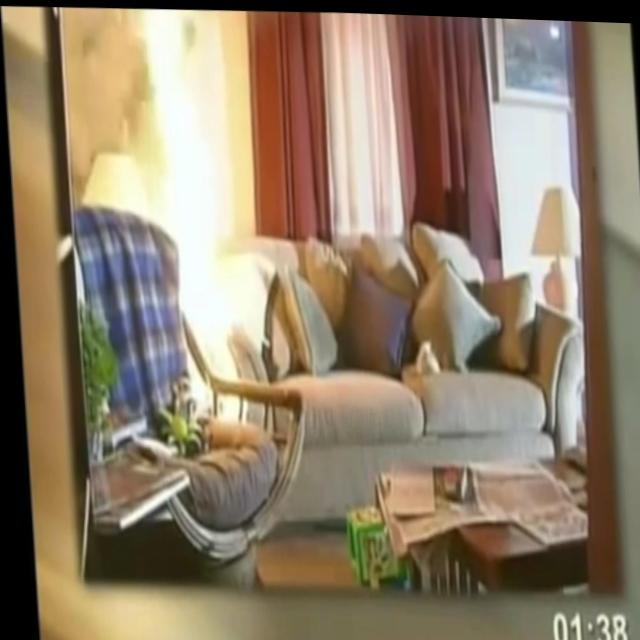fire: (142, 41, 252, 415)
